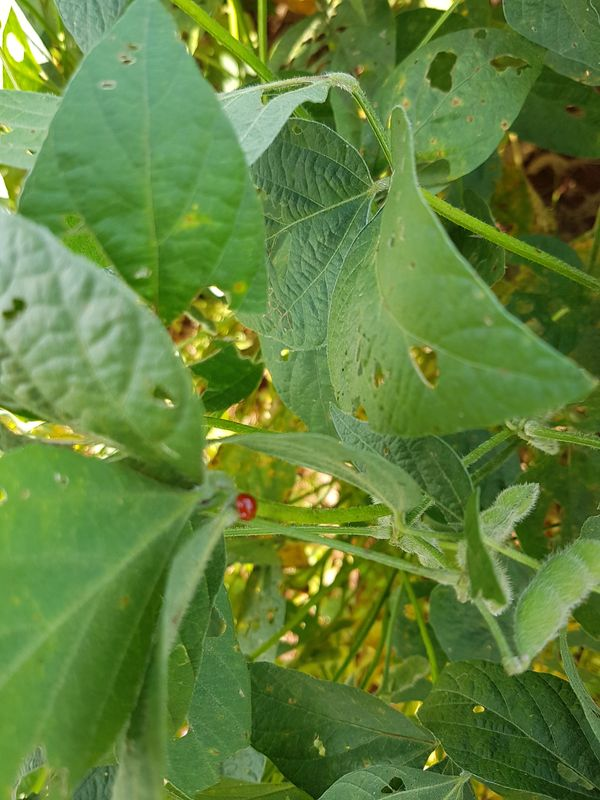Coccinellidae: (212, 483, 274, 537)
